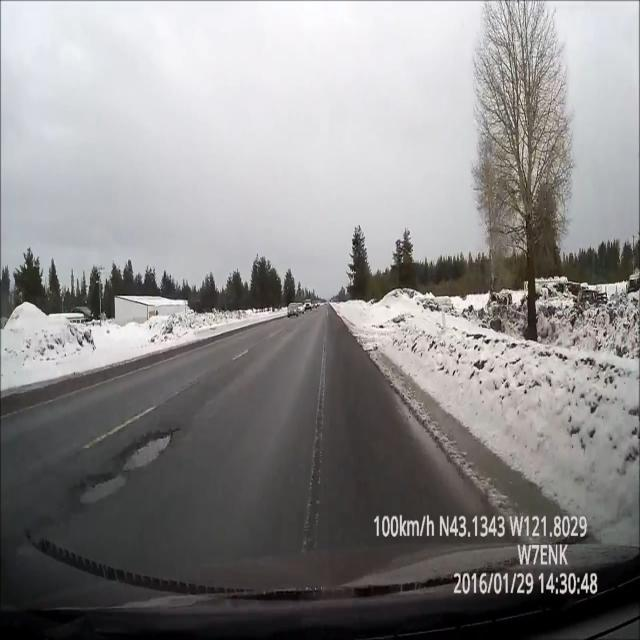Buraco: (68, 425, 184, 512)
